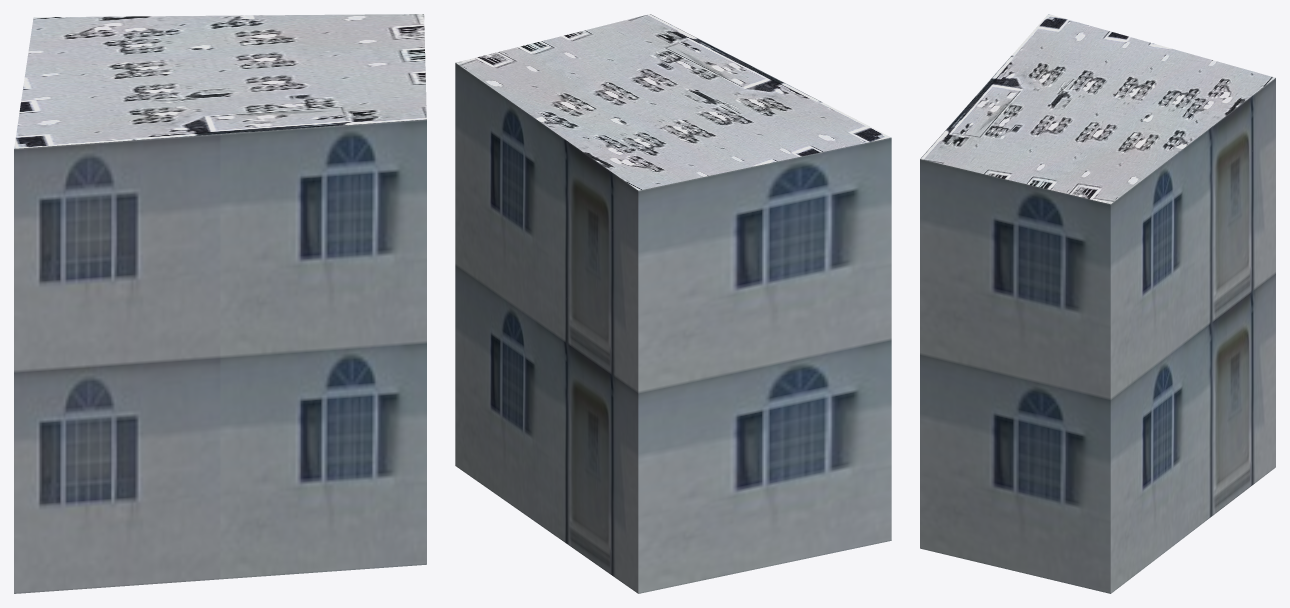
The model's file is ResTex__4916.fbx.
3 views of the same model, side by side, from view 1: azimuth 30°, elevation 25°; view 2: azimuth 150°, elevation 25°; view 3: azimuth 270°, elevation 25° (orthographic). The views are drawn at different scales.
Parts seen in each view (by area): view 1: CityEngineMaterial_17_m, CityEngineMaterial_m; view 2: CityEngineMaterial_17_m, CityEngineMaterial_m; view 3: CityEngineMaterial_17_m, CityEngineMaterial_m.
Boxes of the visible parts, x1,y1,x2,y2 form: CityEngineMaterial_17_m: (14,119,426,593); CityEngineMaterial_m: (14,14,426,148); CityEngineMaterial_17_m: (455,63,891,593); CityEngineMaterial_m: (456,14,890,190); CityEngineMaterial_17_m: (920,78,1275,593); CityEngineMaterial_m: (920,14,1275,204).
Size of the model in its own units: 6.29 by 6 by 4.97.
Materials: 2 (2 with a texture image).
